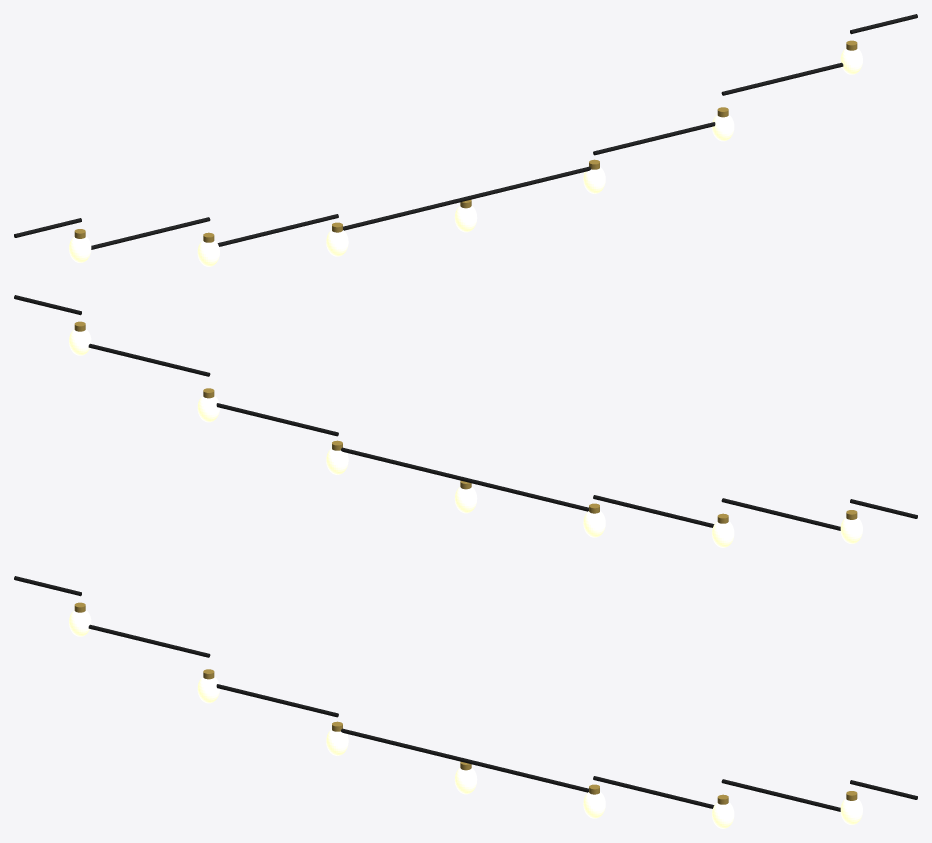
The model's file is lantern-string.glb.
3 renders of one model, top to bottom at view 1: azimuth 30°, elevation 25°; view 2: azimuth 150°, elevation 25°; view 3: azimuth 330°, elevation 25°, orthographic.
Parts seen in each view (by area): view 1: Cylinder.004, Cylinder.003, Cylinder.005, Cylinder.006, Cylinder.002, Cylinder.001; view 2: Cylinder.004, Cylinder.003, Cylinder.005, Cylinder.006, Cylinder.002, Cylinder.001; view 3: Cylinder.003, Cylinder.004, Cylinder.002, Cylinder.001, Cylinder.005, Cylinder.006.
Part boxes in pixels (left/top/right/bottom): Cylinder.004: left=466, top=166, right=590, bottom=200; Cylinder.003: left=343, top=197, right=466, bottom=230; Cylinder.005: left=593, top=122, right=715, bottom=155; Cylinder.006: left=721, top=62, right=843, bottom=95; Cylinder.002: left=217, top=214, right=338, bottom=246; Cylinder.001: left=91, top=217, right=210, bottom=249; Cylinder.004: left=341, top=447, right=465, bottom=481; Cylinder.003: left=465, top=478, right=588, bottom=511; Cylinder.005: left=216, top=403, right=338, bottom=436; Cylinder.006: left=88, top=343, right=210, bottom=376; Cylinder.002: left=593, top=495, right=714, bottom=527; Cylinder.001: left=721, top=498, right=840, bottom=530; Cylinder.003: left=341, top=728, right=465, bottom=762; Cylinder.004: left=465, top=759, right=588, bottom=792; Cylinder.002: left=216, top=684, right=338, bottom=717; Cylinder.001: left=88, top=624, right=210, bottom=657; Cylinder.005: left=593, top=776, right=714, bottom=808; Cylinder.006: left=721, top=779, right=840, bottom=811.
Size of the model in its own units: 6.01 by 0.684 by 0.13.
